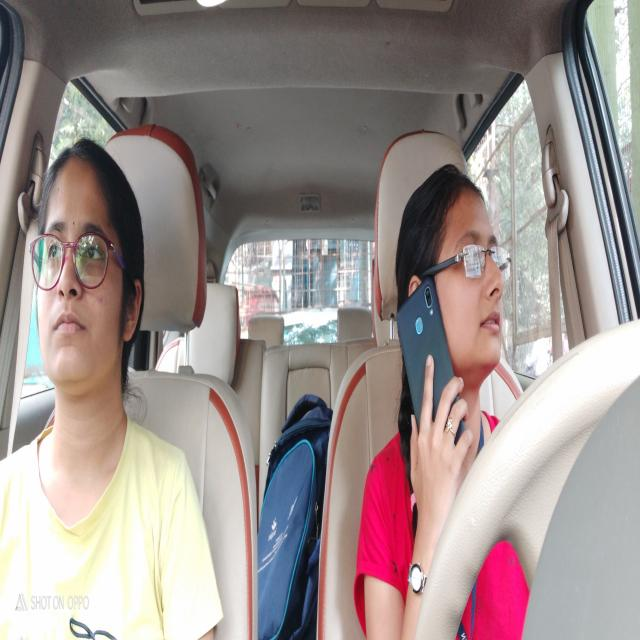mobile: (396, 286, 464, 448)
person: (36, 144, 146, 382), (395, 176, 507, 384)
